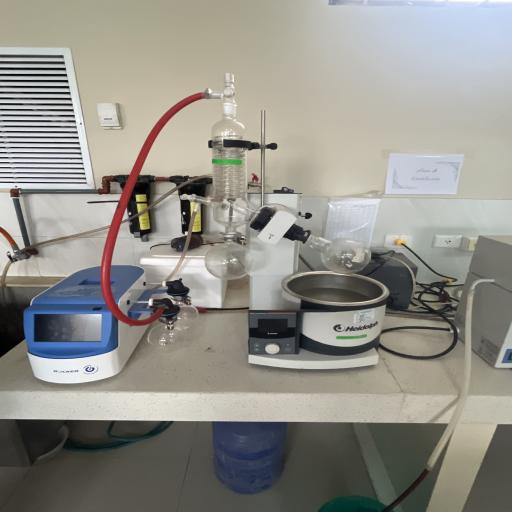Sistema_Rotaevaporacion: (21, 69, 390, 390)
